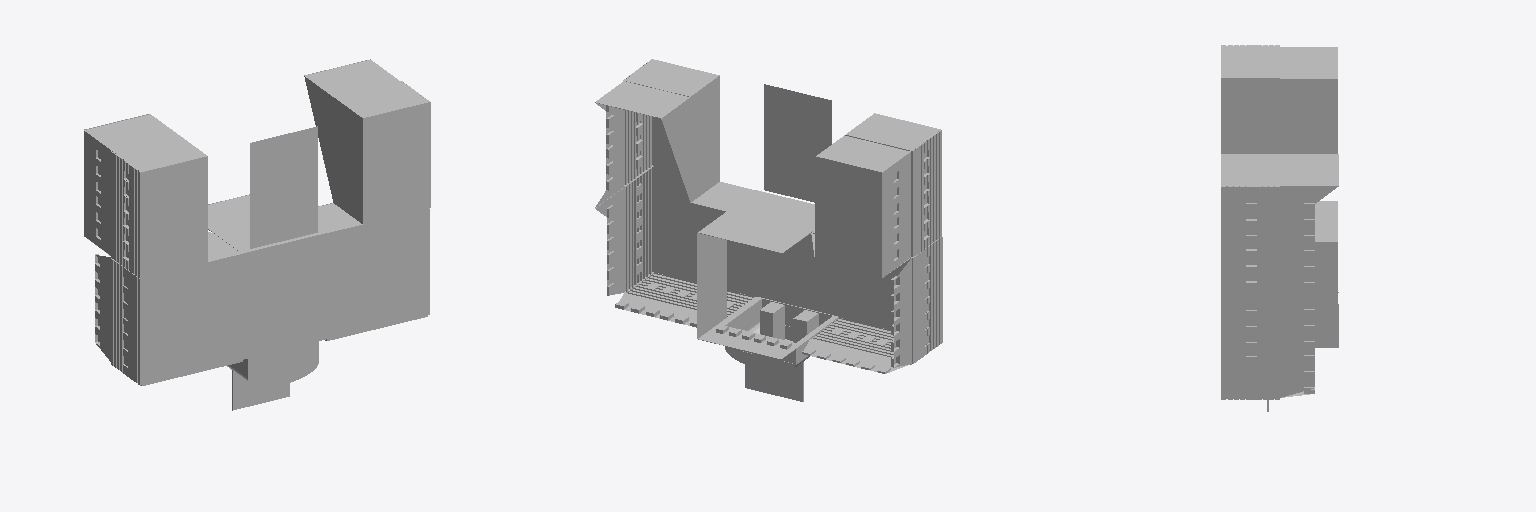
Rendered from kilniskiego1druga.obj.
3 renders of one model, left to right at view 1: azimuth 30°, elevation 25°; view 2: azimuth 150°, elevation 25°; view 3: azimuth 270°, elevation 25°, orthographic.
Parts seen in each view (by area): view 1: Urzad_miejski_kilinskiego; view 2: Urzad_miejski_kilinskiego; view 3: Urzad_miejski_kilinskiego.
Part boxes in pixels (x1,y1,x2,y2): Urzad_miejski_kilinskiego: (84, 59, 430, 410); Urzad_miejski_kilinskiego: (595, 59, 942, 401); Urzad_miejski_kilinskiego: (1221, 45, 1338, 411).
Size of the model in its own units: 0.0407 by 0.0382 by 0.0142.